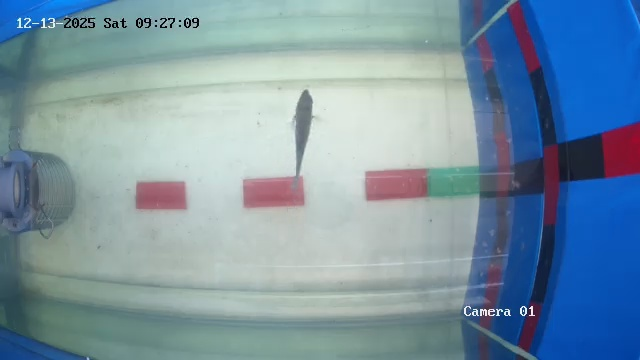fish: (284, 90, 316, 184)
